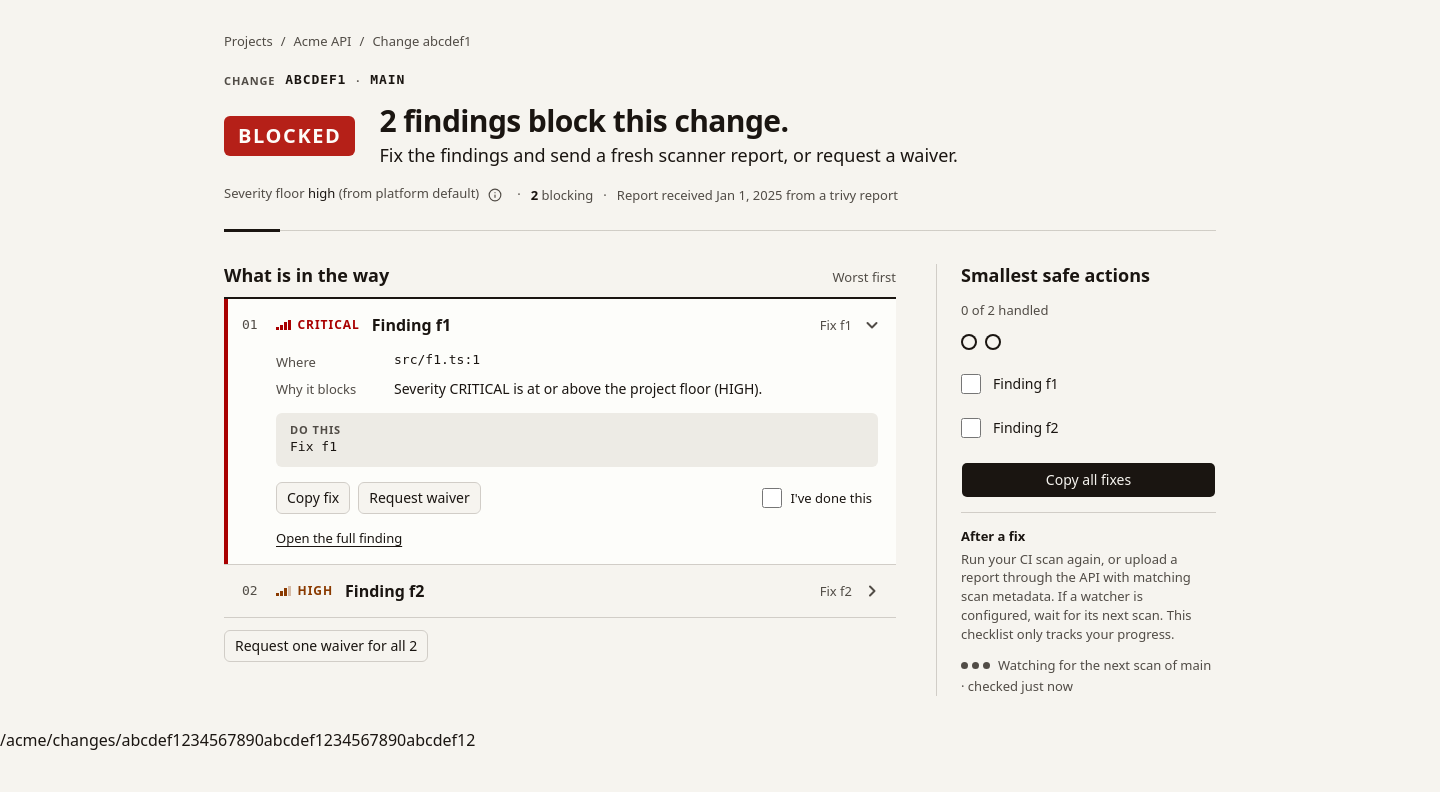
Test: ChangeView waivers › offers a waiver request to a member and sends it for the finding
Click the button "Request waiver" below "src/f1.ts:1" at (420, 498), box [358,482,481,514]
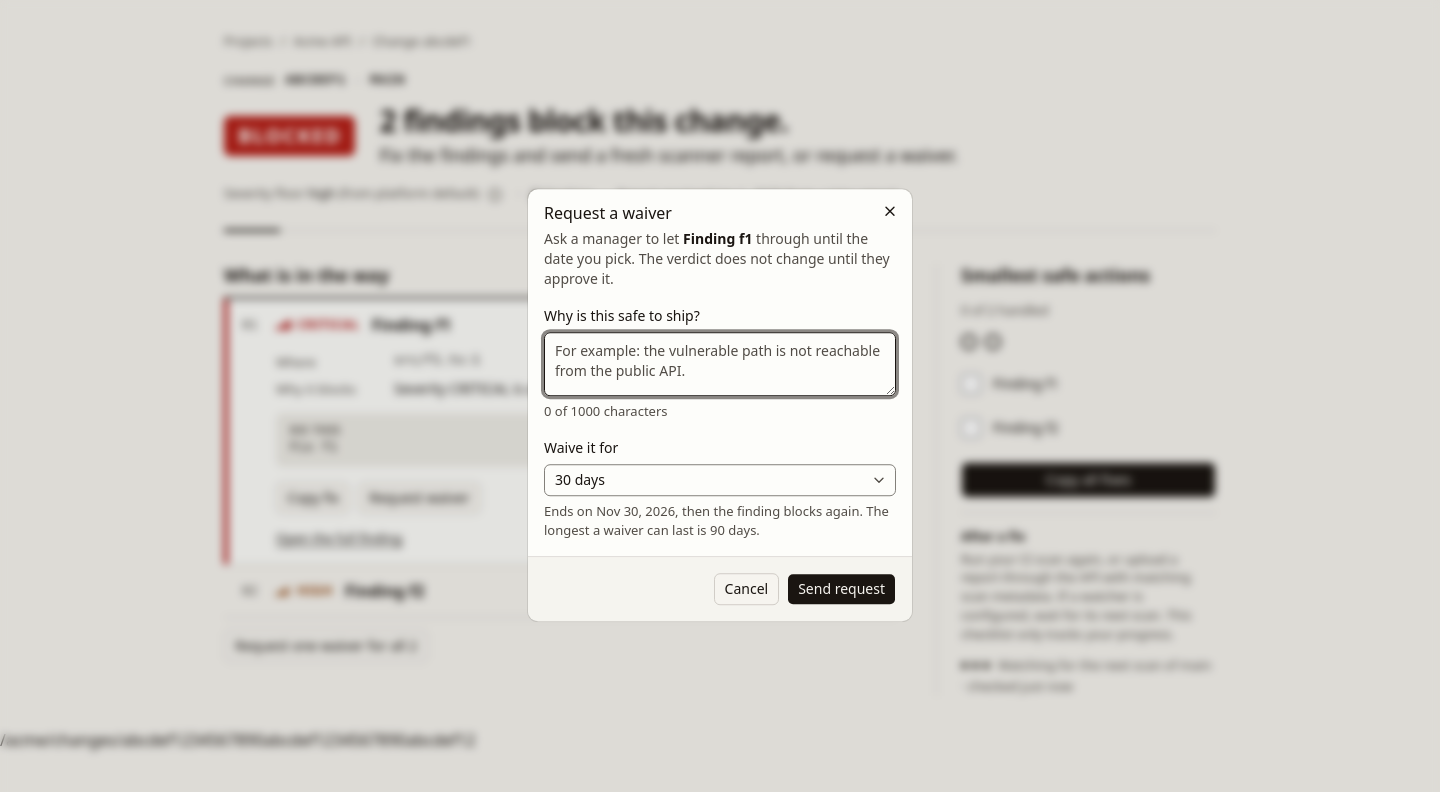
Check: the text "The verdict does not change until they approve it" is shown, box [544,229,890,288]
Check: the button "Send request" is disabled, box [787,573,896,605]
Type "Not reachable from the API." into the text box labelled "Why is this safe to ship?" at (720, 364), box [544,332,896,396]
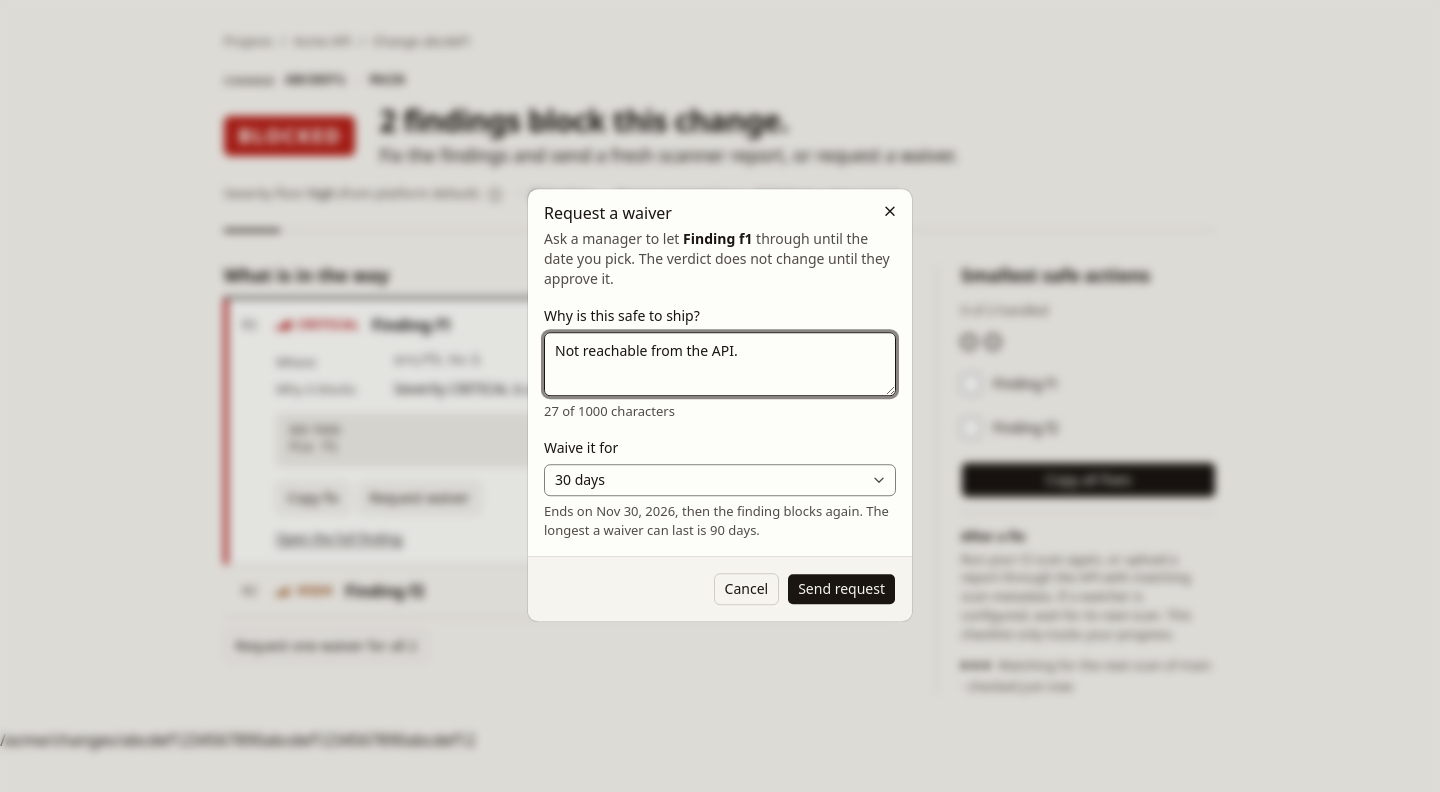
Click the button "Send request" at (842, 589), box [787,573,896,605]
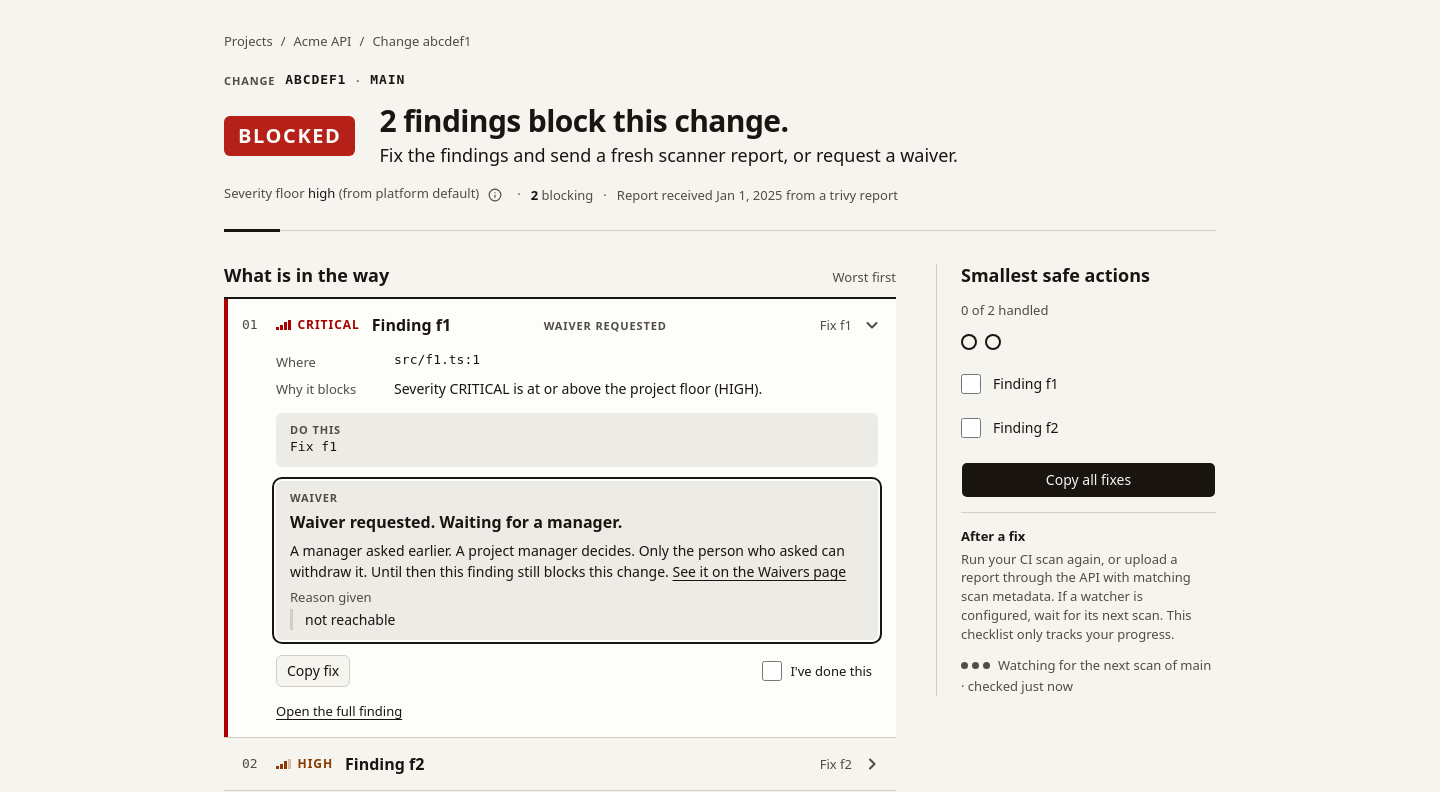
Check: the button "Request waiver" is not shown
Check: the text "Waiver requested. Waiting for a manager." is shown, box [290,511,622,533]
Check: the text "Waiver requested" is shown, box [544,319,667,332]
